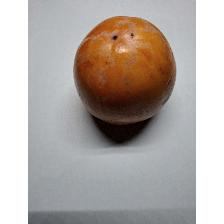Kaki: (68, 11, 182, 127)
